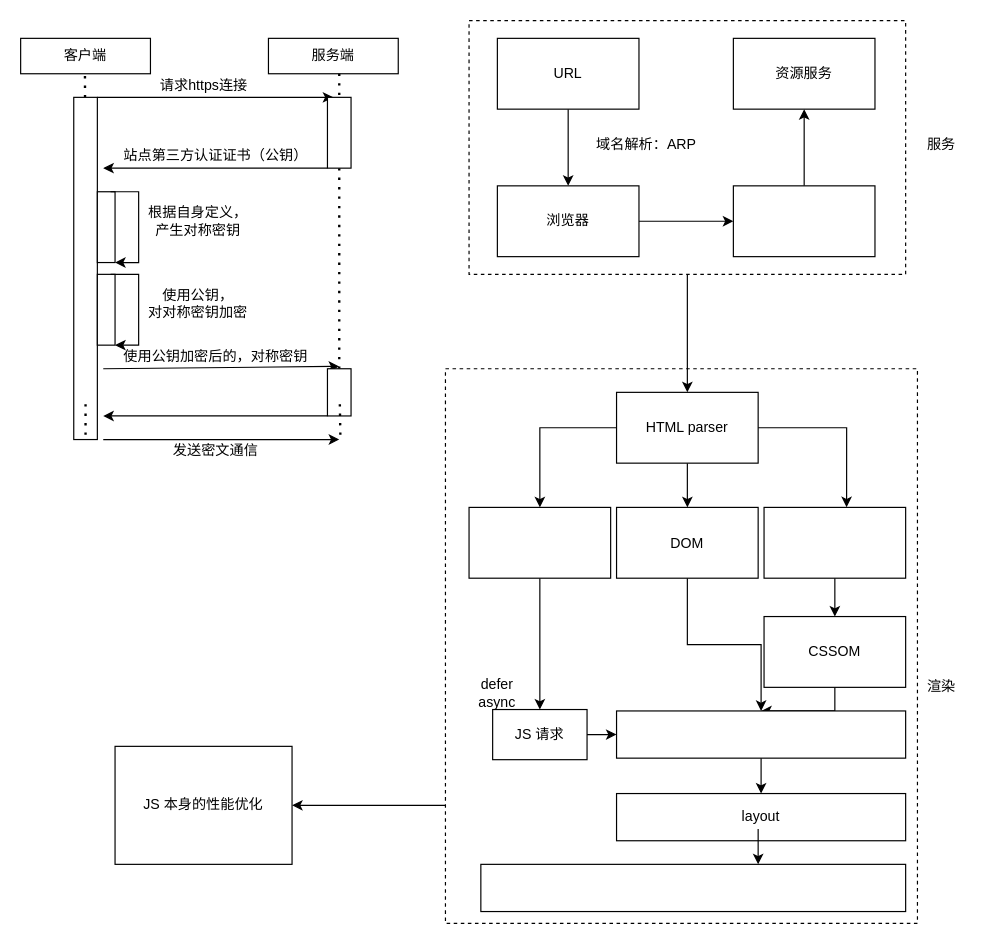
Some shapes in this 985 by 944 pixel diagram are drawn without their labels. The centre of each missing label's shape, as x and y in pixels:
"CSS parser" goes at [834,542].
"JSparser" goes at [539,542].
"paint" goes at [693,887].
"render tree" goes at [760,734].
"网络操作" goes at [803,221].
